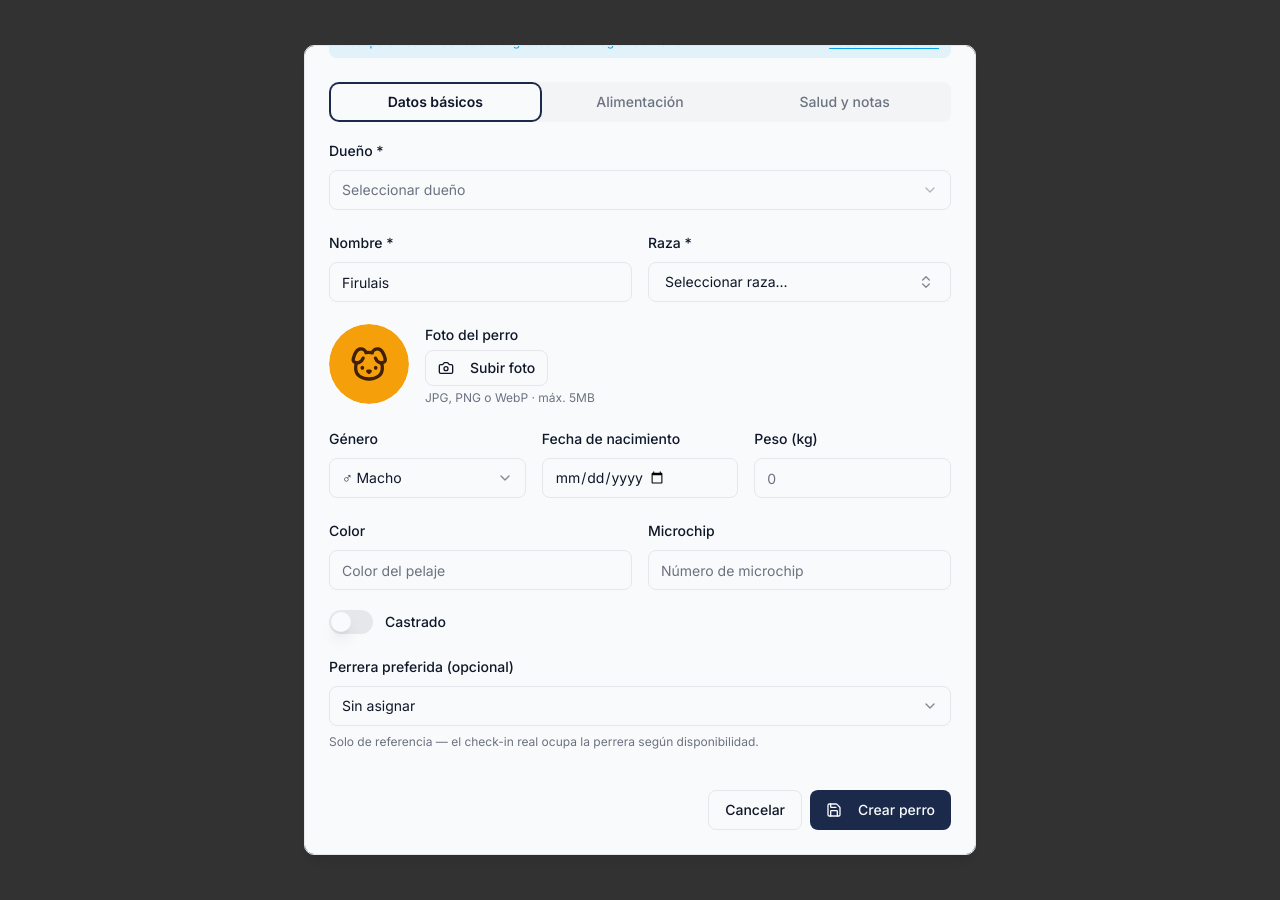
Test: DogModal — validación inline (PR-13) › si el error está en otro tab, salta a ese tab (alimentación incompleta)
(page scrolled)
Click the button "Crear perro" at [880, 810], box [810,790,951,830]
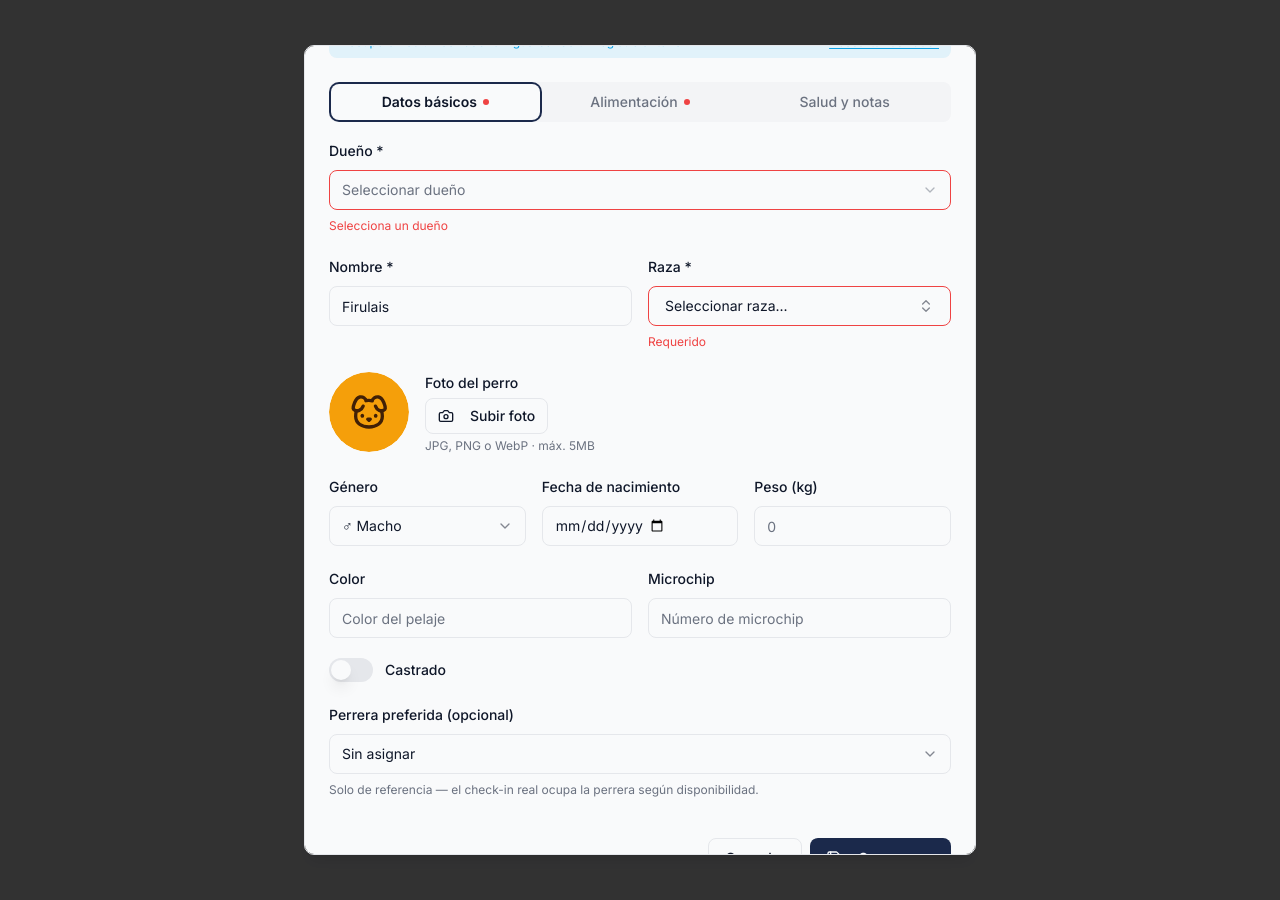
# El tab de alimentación también quedó marcado con errores pendientes.
Press the mouse on the tab "Alimentación" at [640, 102], box [538,86,742,118]
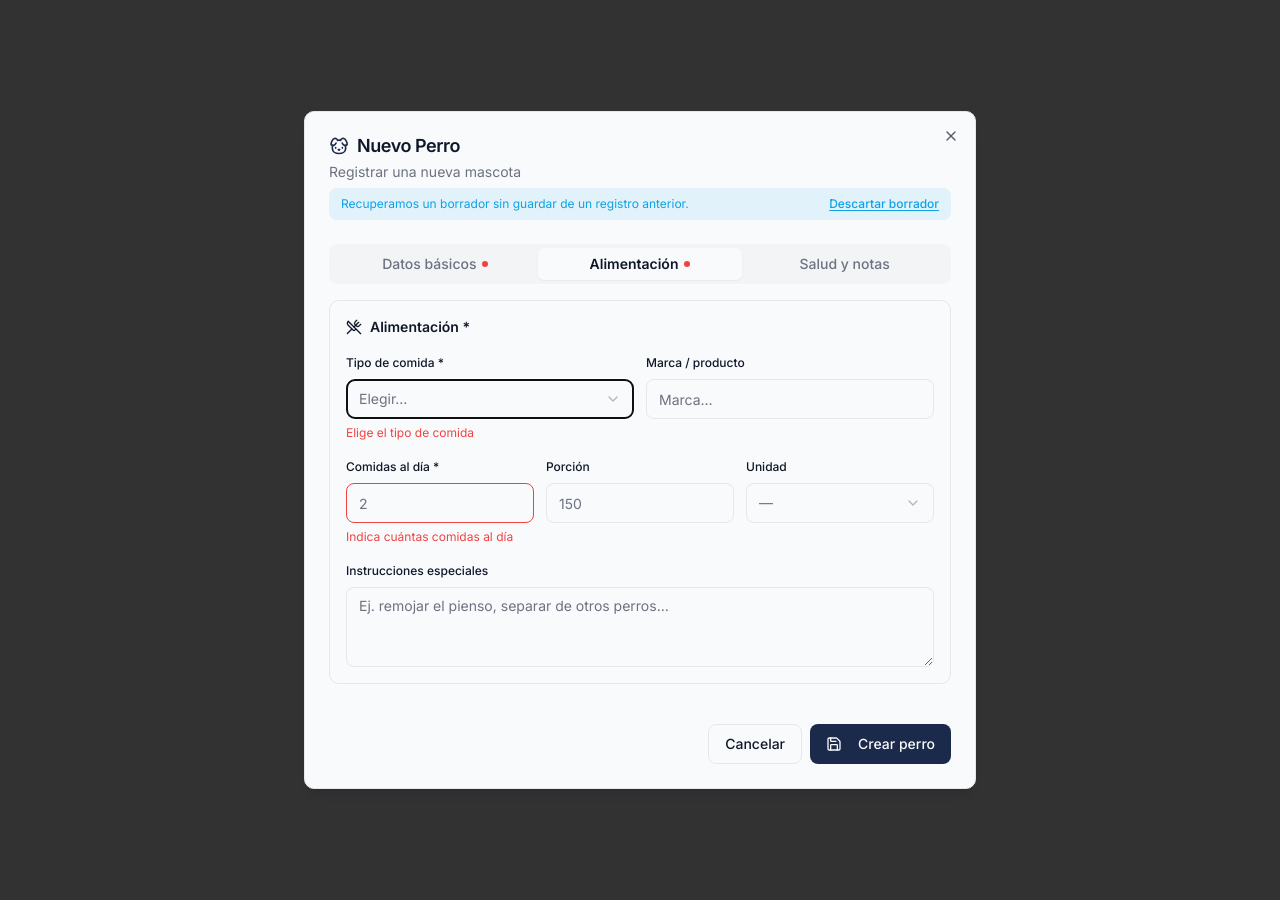
Expected: the text "Elige el tipo de comida" is shown, [346,425,474,440]
